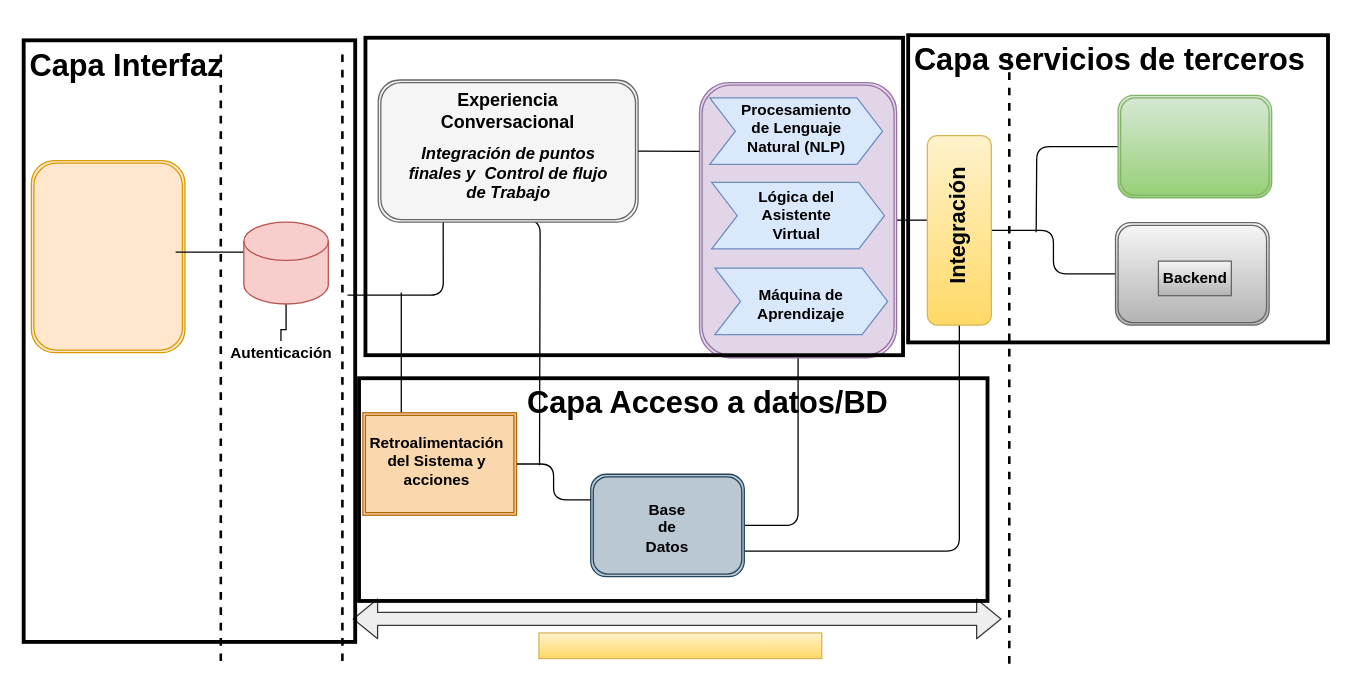
The diagram is 1352 pixels wide and 689 high, and some of its shapes have lost their labels. Here are the shapes that lost their labels. From the top down, the centre of each, then its label:
At point (1194, 146): "Asistente Virtual".
At point (633, 195): "Capa lógica de negocio".
At point (107, 256): "Puntos Finales Interacción mediante: Chat Web Móvil".
At point (285, 262): "Seguridad".
At point (680, 645): "Plataforma Conversacional".
